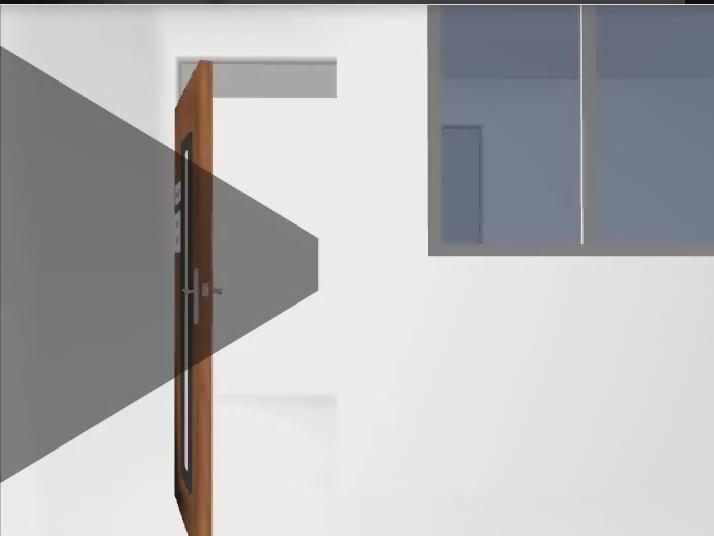door: (174, 61, 213, 536)
